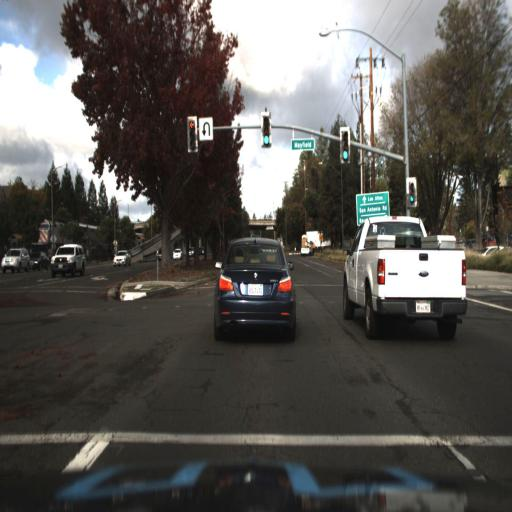car: (326, 214, 493, 359), (212, 234, 298, 342), (46, 236, 90, 278), (477, 232, 510, 265), (2, 243, 30, 279), (29, 244, 52, 272), (27, 245, 47, 272), (111, 247, 132, 271), (111, 246, 132, 266), (170, 246, 187, 268), (300, 234, 315, 255), (299, 233, 311, 257)
trafficLight-Green: (337, 127, 353, 177), (259, 108, 276, 155), (405, 174, 420, 223)
trafficLight-RedLeft: (182, 112, 202, 168)
truck: (306, 229, 338, 251)
